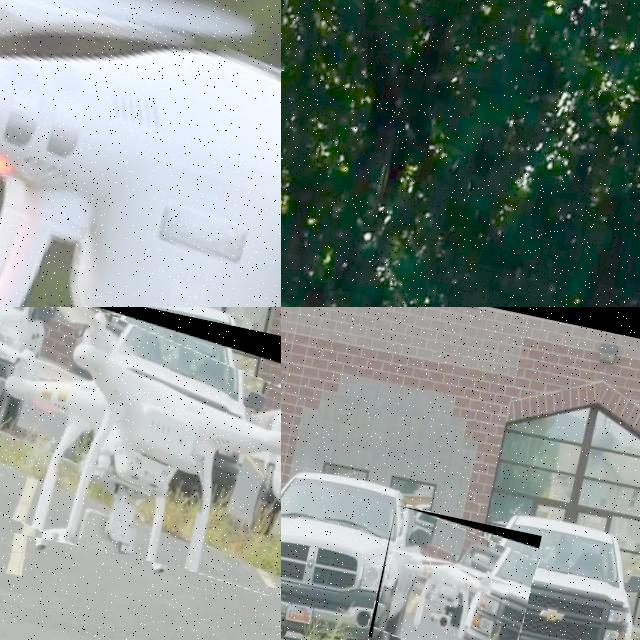drone: (0, 0, 281, 307), (0, 307, 281, 591), (367, 504, 541, 640)
